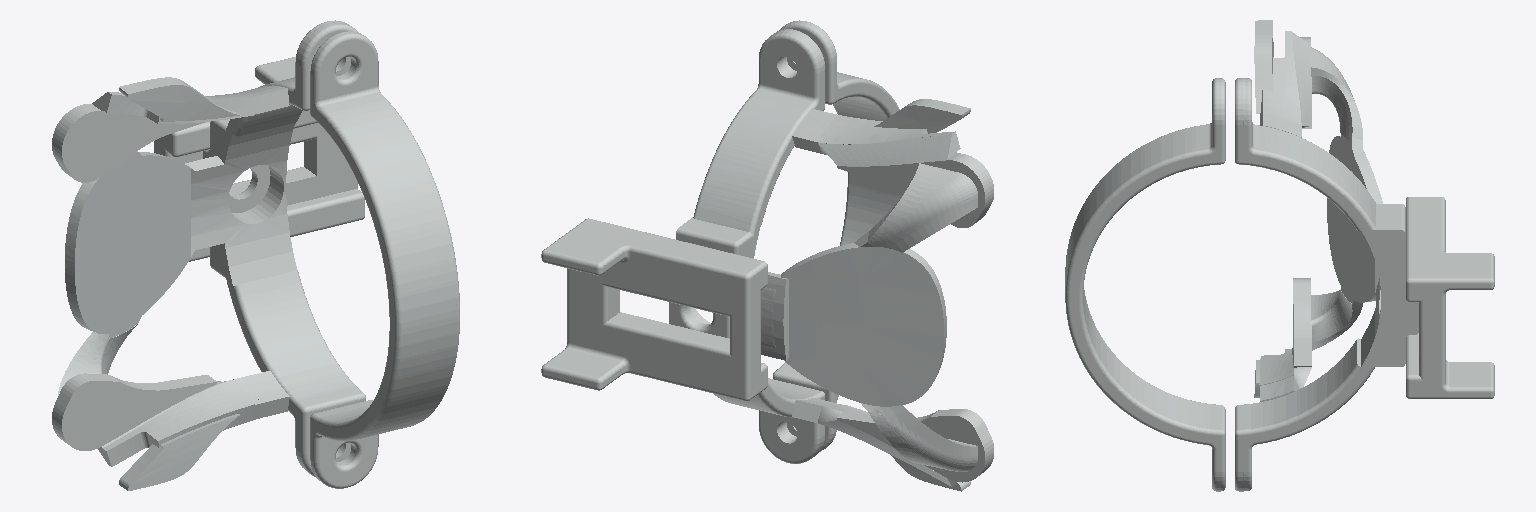
URDF robot description (gen3_lite_gen3_lite_2f):
<?xml version="1.0" ?>
<!-- =================================================================================== -->
<!-- |    This document was autogenerated by xacro from robots/gen3_lite_gen3_lite_2f.xacro | -->
<!-- |    EDITING THIS FILE BY HAND IS NOT RECOMMENDED                                 | -->
<!-- =================================================================================== -->
<robot name="gen3_lite_gen3_lite_2f">
  <!-- Run the macros -->
  <link name="base_link">
    <inertial>
      <origin rpy="0 0 0" xyz="0.00244324 0.00015573 0.08616742"/>
      <mass value="1.14608471"/>
      <inertia ixx="0.00335854" ixy="3.9E-07" ixz="0.00010989" iyy="0.003311" iyz="1.91E-06" izz="0.00077158"/>
    </inertial>
    <visual>
      <origin rpy="0 0 0" xyz="0 0 0"/>
      <geometry>
        <mesh filename="package://kortex_description/arms/gen3_lite/6dof/meshes/base_link.STL"/>
      </geometry>
      <material name="">
        <color rgba="0.803 0.824 0.820 1"/>
      </material>
    </visual>
    <collision>
      <origin rpy="0 0 0" xyz="0 0 0"/>
      <geometry>
        <mesh filename="package://kortex_description/arms/gen3_lite/6dof/meshes/base_link.STL"/>
      </geometry>
    </collision>
  </link>
  <gazebo reference="base_link">
    <material>Kortex/Gray</material>
  </gazebo>
  <link name="shoulder_link">
    <inertial>
      <origin rpy="0 0 0" xyz="2.477E-05 0.02213531 0.09937686"/>
      <mass value="0.95974404"/>
      <inertia ixx="0.00165947" ixy="2E-08" ixz="3.6E-07" iyy="0.00140355" iyz="0.00034927" izz="0.00089493"/>
    </inertial>
    <visual>
      <origin rpy="0 0 0" xyz="0 0 0"/>
      <geometry>
        <mesh filename="package://kortex_description/arms/gen3_lite/6dof/meshes/shoulder_link.STL"/>
      </geometry>
      <material name="">
        <color rgba="0.803 0.824 0.820 1"/>
      </material>
    </visual>
    <collision>
      <origin rpy="0 0 0" xyz="0 0 0"/>
      <geometry>
        <mesh filename="package://kortex_description/arms/gen3_lite/6dof/meshes/shoulder_link.STL"/>
      </geometry>
    </collision>
  </link>
  <gazebo reference="shoulder_link">
    <material>Kortex/Gray</material>
  </gazebo>
  <joint name="joint_1" type="revolute">
    <origin rpy="0 0 0" xyz="0 0 0.12825"/>
    <parent link="base_link"/>
    <child link="shoulder_link"/>
    <axis xyz="0 0 1"/>
    <limit effort="10" lower="-2.68" upper="2.68" velocity="1.6"/>
  </joint>
  <link name="arm_link">
    <inertial>
      <origin rpy="0 0 0" xyz="0.02998299 0.21154808 0.0453031"/>
      <mass value="1.17756164"/>
      <inertia ixx="0.01149277" ixy="1E-06" ixz="1.6E-07" iyy="0.00102851" iyz="0.00140765" izz="0.01133492"/>
    </inertial>
    <visual>
      <origin rpy="0 0 0" xyz="0 0 0"/>
      <geometry>
        <mesh filename="package://kortex_description/arms/gen3_lite/6dof/meshes/arm_link.STL"/>
      </geometry>
      <material name="">
        <color rgba="0.803 0.824 0.820 1"/>
      </material>
    </visual>
    <collision>
      <origin rpy="0 0 0" xyz="0 0 0"/>
      <geometry>
        <mesh filename="package://kortex_description/arms/gen3_lite/6dof/meshes/arm_link.STL"/>
      </geometry>
    </collision>
  </link>
  <gazebo reference="arm_link">
    <material>Kortex/Gray</material>
  </gazebo>
  <joint name="joint_2" type="revolute">
    <origin rpy="1.5708 0 0" xyz="0 -0.03 0.115"/>
    <parent link="shoulder_link"/>
    <child link="arm_link"/>
    <axis xyz="0 0 1"/>
    <limit effort="14" lower="-2.61" upper="2.61" velocity="1.6"/>
  </joint>
  <link name="forearm_link">
    <inertial>
      <origin rpy="0 0 0" xyz="0.0301559 0.09502206 0.0073555"/>
      <mass value="0.59767669"/>
      <inertia ixx="0.00163256" ixy="7.11E-06" ixz="1.54E-06" iyy="0.00029798" iyz="9.587E-05" izz="0.00169091"/>
    </inertial>
    <visual>
      <origin rpy="0 0 0" xyz="0 0 0"/>
      <geometry>
        <mesh filename="package://kortex_description/arms/gen3_lite/6dof/meshes/forearm_link.STL"/>
      </geometry>
      <material name="">
        <color rgba="0.803 0.824 0.820 1"/>
      </material>
    </visual>
    <collision>
      <origin rpy="0 0 0" xyz="0 0 0"/>
      <geometry>
        <mesh filename="package://kortex_description/arms/gen3_lite/6dof/meshes/forearm_link.STL"/>
      </geometry>
    </collision>
  </link>
  <gazebo reference="forearm_link">
    <material>Kortex/Gray</material>
  </gazebo>
  <joint name="joint_3" type="revolute">
    <origin rpy="-3.1416 0 0" xyz="0 0.28 0"/>
    <parent link="arm_link"/>
    <child link="forearm_link"/>
    <axis xyz="0 0 1"/>
    <limit effort="10" lower="-2.61" upper="2.61" velocity="1.6"/>
  </joint>
  <link name="lower_wrist_link">
    <inertial>
      <origin rpy="0 0 0" xyz="0.00575149 0.01000443 0.08719207"/>
      <mass value="0.52693412"/>
      <inertia ixx="0.00069098" ixy="2.4E-07" ixz="0.00016483" iyy="0.00078519" iyz="7.4E-07" izz="0.00034115"/>
    </inertial>
    <visual>
      <origin rpy="0 0 0" xyz="0 0 0"/>
      <geometry>
        <mesh filename="package://kortex_description/arms/gen3_lite/6dof/meshes/lower_wrist_link.STL"/>
      </geometry>
      <material name="">
        <color rgba="0.803 0.824 0.820 1"/>
      </material>
    </visual>
    <collision>
      <origin rpy="0 0 0" xyz="0 0 0"/>
      <geometry>
        <mesh filename="package://kortex_description/arms/gen3_lite/6dof/meshes/lower_wrist_link.STL"/>
      </geometry>
    </collision>
  </link>
  <gazebo reference="lower_wrist_link">
    <material>Kortex/Gray</material>
  </gazebo>
  <joint name="joint_4" type="revolute">
    <origin rpy="1.5708 0 0" xyz="0 -0.14 0.02"/>
    <parent link="forearm_link"/>
    <child link="lower_wrist_link"/>
    <axis xyz="0 0 1"/>
    <limit effort="7" lower="-2.6" upper="2.6" velocity="1.6"/>
  </joint>
  <link name="upper_wrist_link">
    <inertial>
      <origin rpy="0 0 0" xyz="0.08056517 0.00980409 0.01872799"/>
      <mass value="0.58097325"/>
      <inertia ixx="0.00021268" ixy="5.21E-06" ixz="2.91E-06" iyy="0.00106371" iyz="1.1E-07" izz="0.00108465"/>
    </inertial>
    <visual>
      <origin rpy="0 0 0" xyz="0 0 0"/>
      <geometry>
        <mesh filename="package://kortex_description/arms/gen3_lite/6dof/meshes/upper_wrist_link.STL"/>
      </geometry>
      <material name="">
        <color rgba="0.803 0.824 0.820 1"/>
      </material>
    </visual>
    <collision>
      <origin rpy="0 0 0" xyz="0 0 0"/>
      <geometry>
        <mesh filename="package://kortex_description/arms/gen3_lite/6dof/meshes/upper_wrist_link.STL"/>
      </geometry>
    </collision>
  </link>
  <gazebo reference="upper_wrist_link">
    <material>Kortex/Gray</material>
  </gazebo>
  <joint name="joint_5" type="revolute">
    <origin rpy="0 1.5708 0" xyz="0.0285 0 0.105"/>
    <parent link="lower_wrist_link"/>
    <child link="upper_wrist_link"/>
    <axis xyz="0 0 1"/>
    <limit effort="7" lower="-2.53" upper="2.53" velocity="1.6"/>
  </joint>
  <link name="end_effector_link"/>
  <link name="dummy_link">
    <inertial>
      <origin rpy="0 0 0" xyz="0 0 0.1"/>
      <mass value="0.0001"/>
      <inertia ixx="1E-08" ixy="0" ixz="0" iyy="1E-08" iyz="0" izz="1E-08"/>
    </inertial>
    <visual>
      <origin rpy="0 0 0" xyz="0 0 1.0"/>
      <geometry>
        <mesh filename="camprop.STL" scale="0.001 0.001 0.001"/>
      </geometry>
      <material name="">
        <color rgba="0.803 0.824 0.820 1"/>
      </material>
    </visual>
    <collision>
      <origin rpy="0 0 0" xyz="0 0 0.1"/>
      <geometry>
        <mesh filename="camprop.STL" scale="0.001 0.001 0.001"/>
      </geometry>
    </collision>
  </link>
  <joint name="joint_6" type="revolute">
    <origin rpy="0 -1.5708 0" xyz="-0.105 0 0.0285"/>
    <parent link="upper_wrist_link"/>
    <child link="end_effector_link"/>
    <axis xyz="0 0 1"/>
    <limit effort="7" lower="-2.6" upper="2.6" velocity="3.2"/>
  </joint>
  <joint name="end_effector" type="fixed">
    <origin rpy="0 0 0" xyz="0 0 0"/>
    <parent link="end_effector_link"/>
    <child link="dummy_link"/>
    <axis xyz="0 0 1"/>
    <limit effort="0" lower="0" upper="0" velocity="0"/>
  </joint>
  <!-- Tool frame used by the arm -->
  <link name="tool_frame"/>
  <joint name="tool_frame_joint" type="fixed">
    <origin rpy="0 0 1.57079632679" xyz="0 0 0.130"/>
    <parent link="dummy_link"/>
    <child link="tool_frame"/>
    <axis xyz="0 0 0"/>
  </joint>
  <!-- Gripper description -->
  <joint name="gripper_base_joint" type="fixed">
    <origin rpy="0 0 0" xyz="0 0 0"/>
    <parent link="dummy_link"/>
    <child link="gripper_base_link"/>
    <axis xyz="0 0 0"/>
  </joint>
  <link name="gripper_base_link">
    <inertial>
      <origin rpy="0 0 0" xyz="4.03E-06 1.08E-05 0.041397"/>
      <mass value="0.1395"/>
      <inertia ixx="0.00011614" ixy="1E-08" ixz="4E-08" iyy="0.00010327" iyz="0" izz="9.707E-05"/>
    </inertial>
    <visual>
      <origin rpy="0 0 0" xyz="0 0 0"/>
      <geometry>
        <mesh filename="package://kortex_description/grippers/gen3_lite_2f/meshes/gripper_base_link.STL"/>
        <!-- <mesh filename="camprop.STL"/> -->
      </geometry>
      <material name="">
        <color rgba="0.803 0.824 0.820 1"/>
      </material>
    </visual>
    <collision>
      <origin rpy="0 0 0" xyz="0 0 0"/>
      <geometry>
        <mesh filename="package://kortex_description/grippers/gen3_lite_2f/meshes/gripper_base_link.STL"/>
        <!-- <mesh filename="camprop.STL"/> -->
      </geometry>
    </collision>
  </link>
  <gazebo reference="gripper_base_link">
    <material>Kortex/Gray</material>
  </gazebo>
  <link name="right_finger_prox_link">
    <inertial>
      <origin rpy="0 0 0" xyz="0.020257 0.0063483 6.991E-05"/>
      <mass value="0.018385"/>
      <inertia ixx="2.29E-06" ixy="1.43E-06" ixz="0" iyy="4.56E-06" iyz="0" izz="4.77E-06"/>
    </inertial>
    <visual>
      <origin rpy="0 0 0" xyz="0 0 0"/>
      <geometry>
        <mesh filename="package://kortex_description/grippers/gen3_lite_2f/meshes/right_finger_prox_link.STL"/>
      </geometry>
      <material name="">
        <color rgba="0.803 0.824 0.820 1"/>
      </material>
    </visual>
    <collision>
      <origin rpy="0 0 0" xyz="0 0 0"/>
      <geometry>
        <mesh filename="package://kortex_description/grippers/gen3_lite_2f/meshes/right_finger_prox_link.STL"/>
      </geometry>
    </collision>
  </link>
  <gazebo reference="right_finger_prox_link">
    <material>Kortex/Gray</material>
  </gazebo>
  <joint name="right_finger_bottom_joint" type="revolute">
    <origin rpy="0 1.5708 0" xyz="0 -0.030501 0.070003"/>
    <parent link="gripper_base_link"/>
    <child link="right_finger_prox_link"/>
    <axis xyz="0 0 1"/>
    <limit effort="1000" lower="-0.09" upper="0.96" velocity="0.6"/>
  </joint>
  <link name="right_finger_dist_link">
    <inertial>
      <origin rpy="0 0 0" xyz="0.018488 0.0011091 0"/>
      <mass value="0.010748"/>
      <inertia ixx="6.3E-07" ixy="3.2E-07" ixz="0" iyy="1.83E-06" iyz="0" izz="1.61E-06"/>
    </inertial>
    <visual>
      <origin rpy="0 0 0" xyz="0 0 0"/>
      <geometry>
        <mesh filename="package://kortex_description/grippers/gen3_lite_2f/meshes/right_finger_dist_link.STL"/>
      </geometry>
      <material name="">
        <color rgba="0 0.055 0.525 1"/>
      </material>
    </visual>
    <collision>
      <origin rpy="0 0 0" xyz="0 0 0"/>
      <geometry>
        <mesh filename="package://kortex_description/grippers/gen3_lite_2f/meshes/right_finger_dist_link.STL"/>
      </geometry>
    </collision>
  </link>
  <gazebo reference="right_finger_dist_link">
    <material>Kortex/Blue</material>
  </gazebo>
  <joint name="right_finger_tip_joint" type="revolute">
    <origin rpy="0 0 0" xyz="-0.045636 0.020423 0"/>
    <parent link="right_finger_prox_link"/>
    <child link="right_finger_dist_link"/>
    <axis xyz="0 0 1"/>
    <limit effort="1000" lower="-0.50" upper="0.21" velocity="1000"/>
    <!--limit lower="-1.03" upper="0.21" effort="1000" velocity="1000" /-->
    <mimic joint="right_finger_bottom_joint" multiplier="-0.676" offset="0.149"/>
  </joint>
  <link name="left_finger_prox_link">
    <inertial>
      <origin rpy="0 0 0" xyz="0.020257 0.0063483 6.99E-05"/>
      <mass value="0.018385"/>
      <inertia ixx="2.29E-06" ixy="1.43E-06" ixz="0" iyy="4.56E-06" iyz="0" izz="4.77E-06"/>
    </inertial>
    <visual>
      <origin rpy="0 0 0" xyz="0 0 0"/>
      <geometry>
        <mesh filename="package://kortex_description/grippers/gen3_lite_2f/meshes/left_finger_prox_link.STL"/>
      </geometry>
      <material name="">
        <color rgba="0.803 0.824 0.820 1"/>
      </material>
    </visual>
    <collision>
      <origin rpy="0 0 0" xyz="0 0 0"/>
      <geometry>
        <mesh filename="package://kortex_description/grippers/gen3_lite_2f/meshes/left_finger_prox_link.STL"/>
      </geometry>
    </collision>
  </link>
  <gazebo reference="left_finger_prox_link">
    <material>Kortex/Gray</material>
  </gazebo>
  <joint name="left_finger_bottom_joint" type="revolute">
    <origin rpy="0 1.5708 0" xyz="0 0.0305 0.070003"/>
    <parent link="gripper_base_link"/>
    <child link="left_finger_prox_link"/>
    <axis xyz="0 0 1"/>
    <limit effort="1000" lower="-0.96" upper="0.09" velocity="1000"/>
    <mimic joint="right_finger_bottom_joint" multiplier="-1.0" offset="0.0"/>
  </joint>
  <link name="left_finger_dist_link">
    <inertial>
      <origin rpy="0 0 0" xyz="-0.018488 0.0011091 0"/>
      <mass value="0.010748"/>
      <inertia ixx="6.3E-07" ixy="3.2E-07" ixz="0" iyy="1.83E-06" iyz="0" izz="1.61E-06"/>
    </inertial>
    <visual>
      <origin rpy="0 0 0" xyz="0 0 0"/>
      <geometry>
        <mesh filename="package://kortex_description/grippers/gen3_lite_2f/meshes/left_finger_dist_link.STL"/>
      </geometry>
      <material name="">
        <color rgba="0 0.055 0.525 1"/>
      </material>
    </visual>
    <collision>
      <origin rpy="0 0 0" xyz="0 0 0"/>
      <geometry>
        <mesh filename="package://kortex_description/grippers/gen3_lite_2f/meshes/left_finger_dist_link.STL"/>
      </geometry>
    </collision>
  </link>
  <gazebo reference="left_finger_dist_link">
    <material>Kortex/Blue</material>
  </gazebo>
  <joint name="left_finger_tip_joint" type="revolute">
    <origin rpy="0 0 0" xyz="-0.045636 -0.020423 6.9901E-05"/>
    <parent link="left_finger_prox_link"/>
    <child link="left_finger_dist_link"/>
    <axis xyz="0 0 -1"/>
    <limit effort="1000" lower="-0.50" upper="0.21" velocity="1000"/>
    <!--limit lower="-1.03" upper="0.21" effort="1000" velocity="1000" /-->
    <mimic joint="right_finger_bottom_joint" multiplier="-0.676" offset="0.149"/>
  </joint>
</robot>

--- What the picture shows (computed from the rendered views, not written in the file) ---
3 views of the same robot in one strip: view 1: azimuth 30°, elevation 25°; view 2: azimuth 150°, elevation 25°; view 3: azimuth 270°, elevation 25° (orthographic).
Robot: gen3_lite_gen3_lite_2f — 14 links, 13 joints (10 revolute, 3 fixed); root link base_link; default pose: all joints at 0.
Visible links, largest first — view 1: dummy_link; view 2: dummy_link; view 3: dummy_link.
Boxes of the visible links, <box> form: dummy_link: <box>52,20,459,490</box>; dummy_link: <box>541,20,993,491</box>; dummy_link: <box>1065,20,1494,491</box>.
Size in the robot's own frame: 0.0858 by 0.0964 by 0.1009 metres.
Meshes: 12 distinct files referenced, 1 mesh visuals loaded (1 binary STL); not drawn: 11 (reference not matched to a file when rendering).